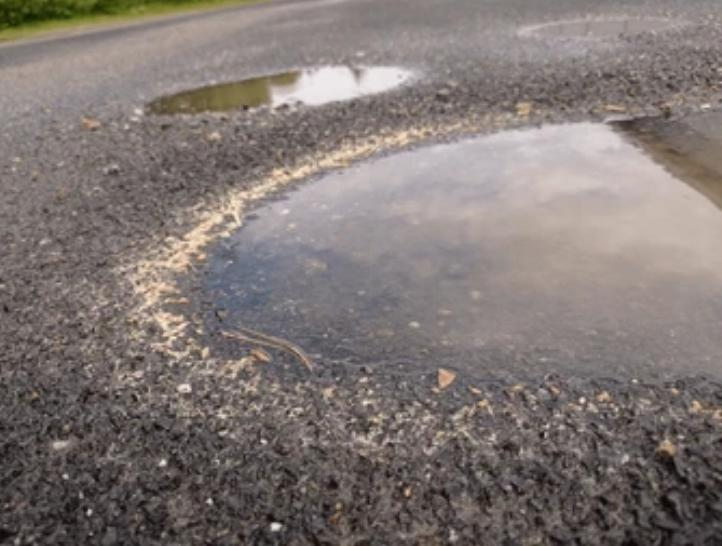water accumulation: (183, 107, 722, 399), (137, 64, 415, 119), (517, 16, 679, 42)
